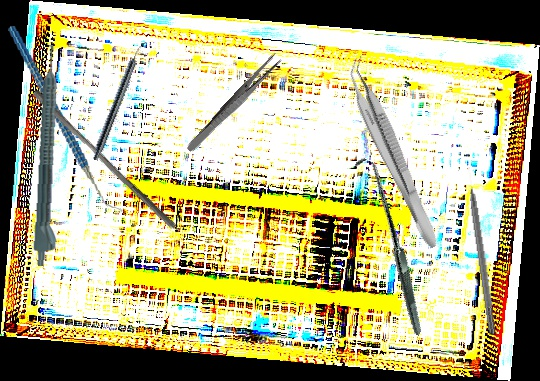Chopper: (7, 13, 124, 226)
Dressing Forceps: (184, 51, 284, 156)
Handpiece: (32, 44, 69, 267), (90, 38, 148, 163)
Hook Surgical: (300, 155, 478, 337), (464, 166, 499, 336)
Pusher: (27, 88, 182, 231)
Tissue Forceps: (336, 55, 452, 251)
